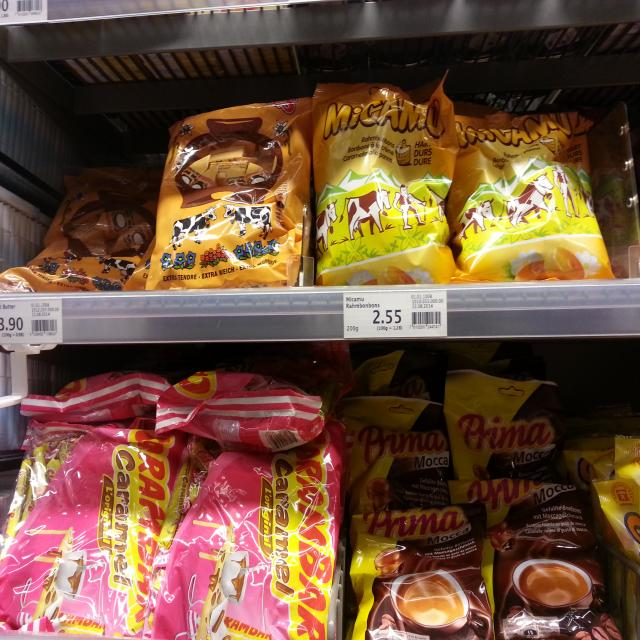Bombons: (144, 416, 340, 640), (0, 420, 180, 640), (310, 69, 460, 285), (144, 96, 310, 291), (448, 110, 620, 281), (448, 475, 621, 640), (0, 173, 157, 294), (348, 508, 488, 640), (445, 369, 567, 478), (338, 398, 455, 504)
